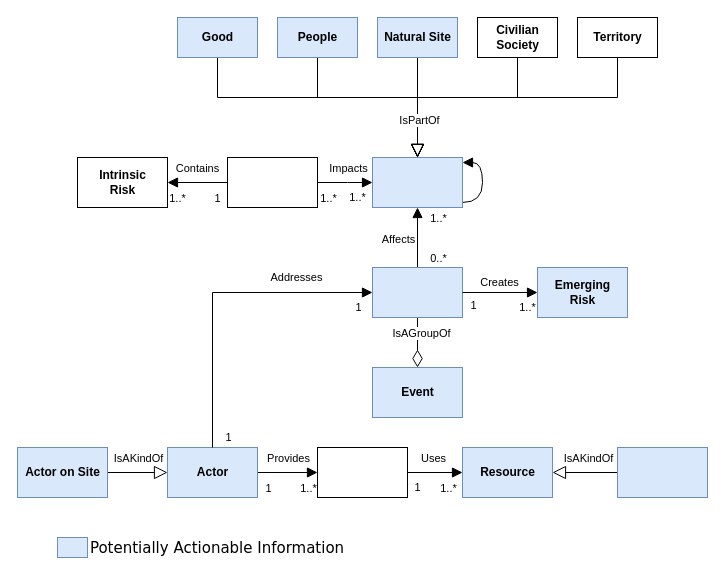
The diagram is 725 pixels wide and 580 high, and some of its shapes have lost their labels. The shapes that lost their labels are listed below. From the top down, each one's box as (x1, y1, x2, y2) in pixels, then its label:
(226, 156, 318, 208): Danger
(372, 156, 462, 208): Environment Component
(372, 266, 462, 318): Effect
(316, 446, 408, 498): Actor Service
(616, 446, 708, 498): Resource on Site
